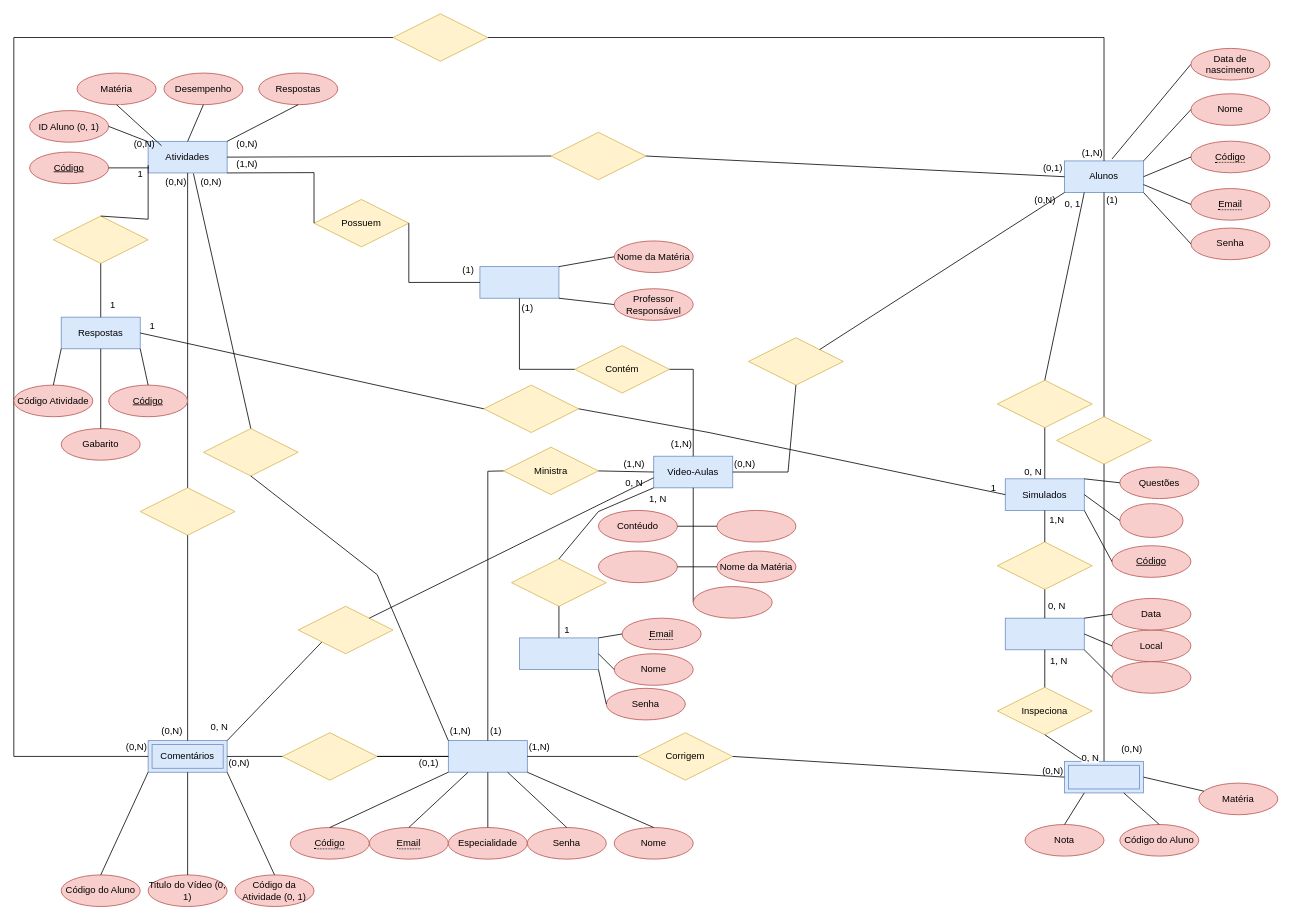
This 1292x920 diagram has some shape labels left out. The shapes that lost their labels are listed below. From the top down, each one's box as (x1, y1, x2, y2) in pixels, then its label:
(392, 13, 488, 61): Deixam
(550, 132, 646, 180): Realizam
(53, 215, 148, 263): Checa
(479, 266, 559, 298): Cursos
(748, 337, 843, 385): Assistem
(483, 384, 579, 433): Apura
(997, 379, 1092, 428): Efetuam
(203, 428, 298, 476): Cria
(1056, 416, 1151, 464): Analisa
(139, 487, 235, 535): Tem
(716, 510, 796, 542): Duração
(1119, 503, 1183, 537): Código Respostas
(511, 558, 606, 606): Gerencia
(598, 550, 677, 583): Tìtulo
(997, 541, 1092, 589): Utilizam
(692, 586, 772, 618): Url
(297, 606, 393, 654): Apresenta
(1004, 617, 1084, 650): Aplicação
(519, 637, 598, 670): Administrador
(1111, 661, 1191, 693): Instituições
(282, 732, 377, 780): Responde
(448, 740, 527, 772): Professores
(1064, 761, 1144, 793): Analise de Desempenho
